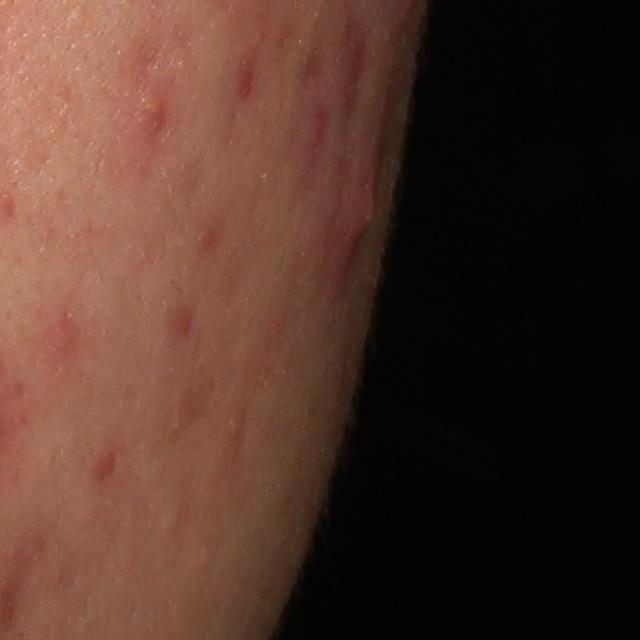papule: (39, 298, 97, 361), (339, 170, 384, 243), (135, 73, 169, 143), (84, 444, 113, 482)
